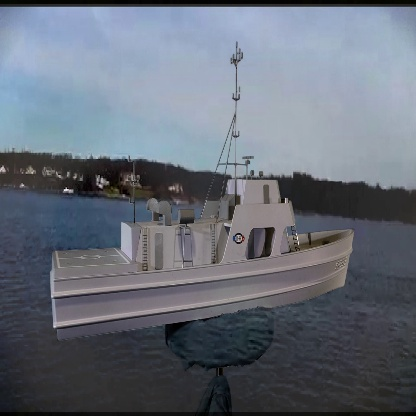YP689: (50, 37, 355, 346)
